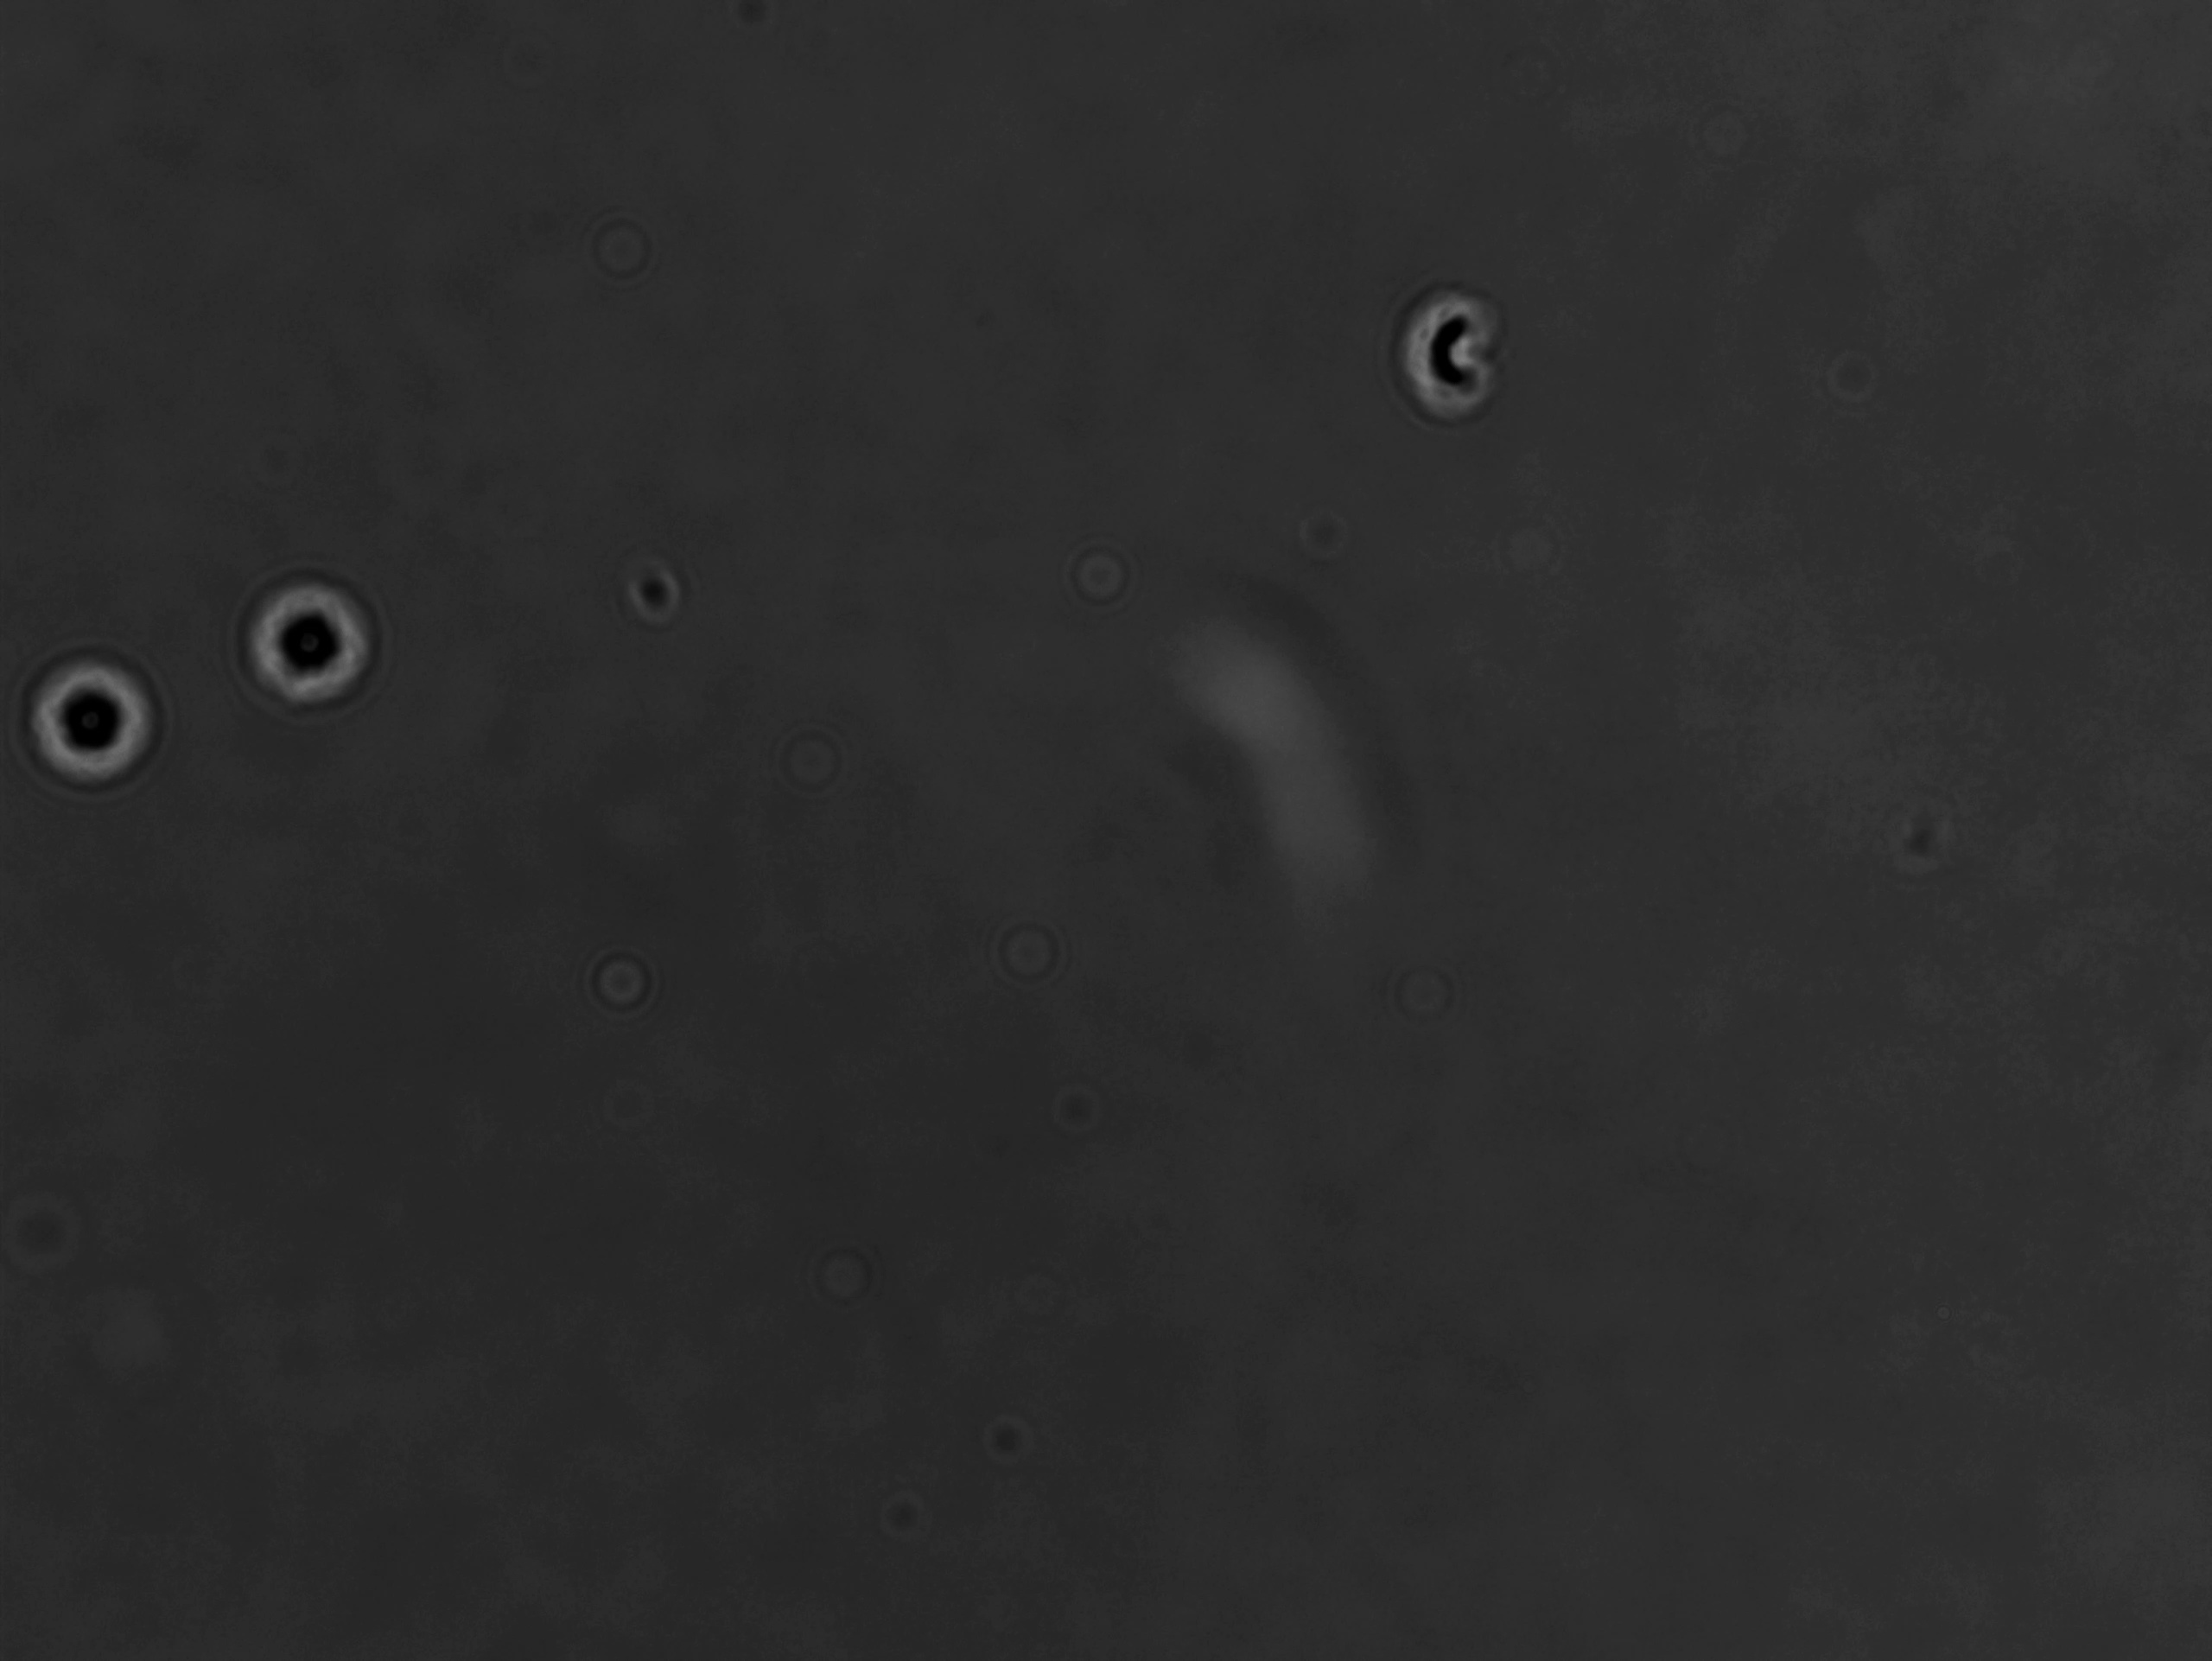depth:-20: (218, 564, 408, 728), (7, 646, 185, 799)
